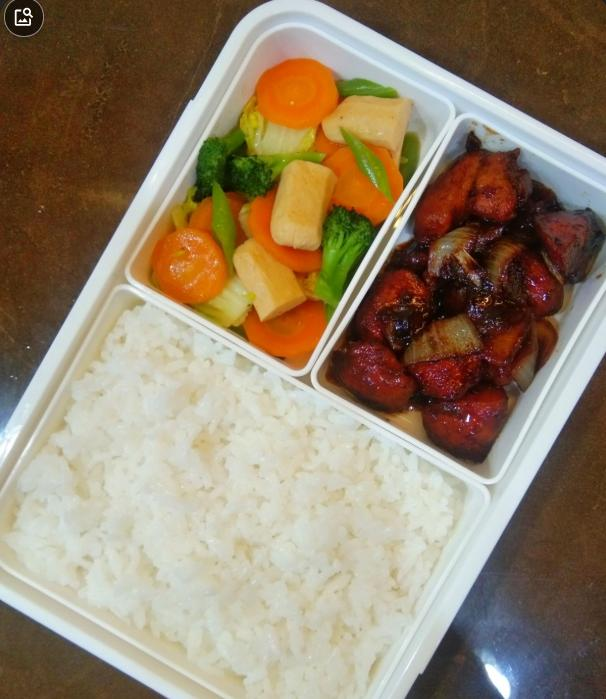buah_sayur_vitA: (270, 74, 332, 128), (160, 240, 213, 295)
daging: (417, 202, 523, 411)
makanan_berpati: (90, 407, 334, 616)
